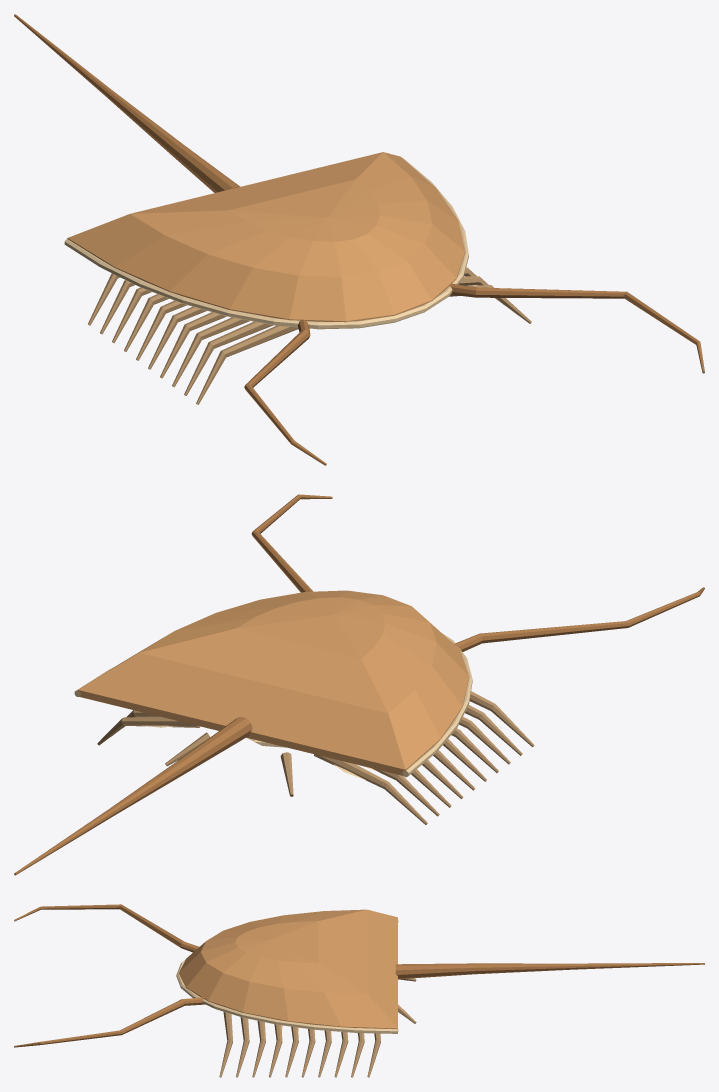
The model's file is burgessia.glb.
3 views of the same model, one above another, from view 1: azimuth 30°, elevation 25°; view 2: azimuth 150°, elevation 25°; view 3: azimuth 270°, elevation 25° (orthographic). The views are drawn at different scales.
Parts seen in each view (by area): view 1: single-eyeless-carapace, carapace-rim, single-unsegmented-tail-spine, right-antenna, left-antenna, left-walking-00, left-walking-01, left-walking-02, left-walking-03; view 2: single-eyeless-carapace, single-unsegmented-tail-spine, left-antenna, right-antenna, carapace-rim, left-walking-09, right-walking-09, left-walking-00; view 3: single-eyeless-carapace, single-unsegmented-tail-spine, carapace-rim, right-antenna, left-antenna, right-walking-00, right-walking-01, right-walking-02.
Part boxes in pixels (left/top/right/bottom): single-eyeless-carapace: left=67, top=152, right=465, bottom=322; carapace-rim: left=64, top=158, right=468, bottom=329; single-unsegmented-tail-spine: left=14, top=14, right=240, bottom=192; right-antenna: left=449, top=283, right=704, bottom=373; left-antenna: left=244, top=319, right=326, bottom=465; left-walking-00: left=196, top=325, right=298, bottom=404; left-walking-01: left=184, top=321, right=272, bottom=395; left-walking-02: left=172, top=317, right=249, bottom=387; left-walking-03: left=160, top=312, right=226, bottom=378; single-eyeless-carapace: left=77, top=590, right=469, bottom=775; single-unsegmented-tail-spine: left=14, top=716, right=252, bottom=875; left-antenna: left=454, top=587, right=704, bottom=651; right-antenna: left=251, top=494, right=332, bottom=592; carapace-rim: left=74, top=633, right=472, bottom=777; left-walking-09: left=314, top=754, right=427, bottom=824; right-walking-09: left=97, top=716, right=200, bottom=745; left-walking-00: left=469, top=691, right=534, bottom=746; single-eyeless-carapace: left=178, top=909, right=397, bottom=1029; single-unsegmented-tail-spine: left=395, top=963, right=704, bottom=979; carapace-rim: left=176, top=920, right=398, bottom=1033; right-antenna: left=14, top=997, right=204, bottom=1047; left-antenna: left=14, top=904, right=199, bottom=952; right-walking-00: left=219, top=1011, right=232, bottom=1077; right-walking-01: left=236, top=1017, right=249, bottom=1077; right-walking-02: left=252, top=1021, right=265, bottom=1077.
Size of the model in its own units: 0.0207 by 0.00579 by 0.0441.
